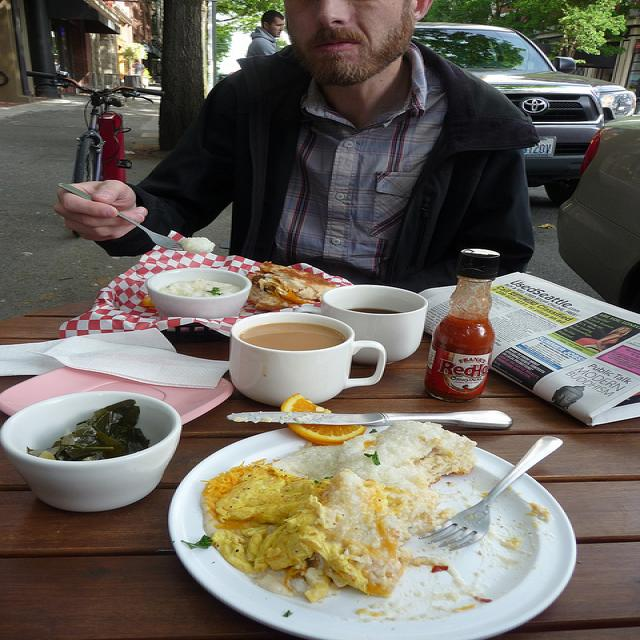Vehicle: (408, 22, 604, 207), (558, 113, 640, 311)
